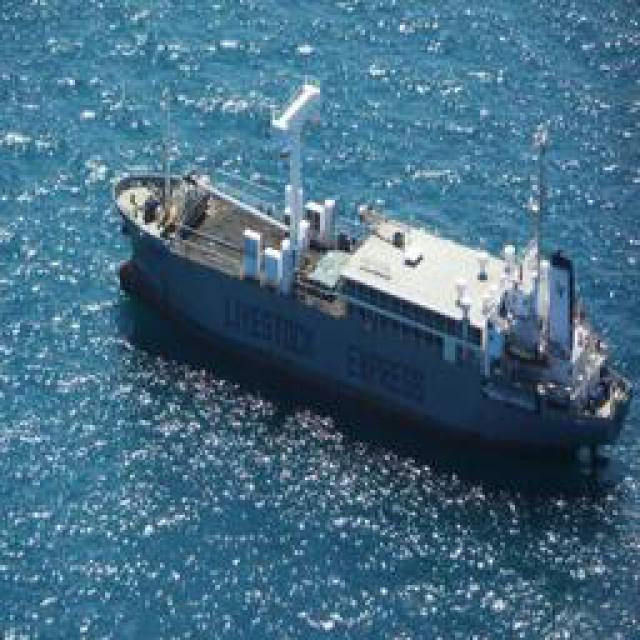Ship: (122, 142, 622, 462)
